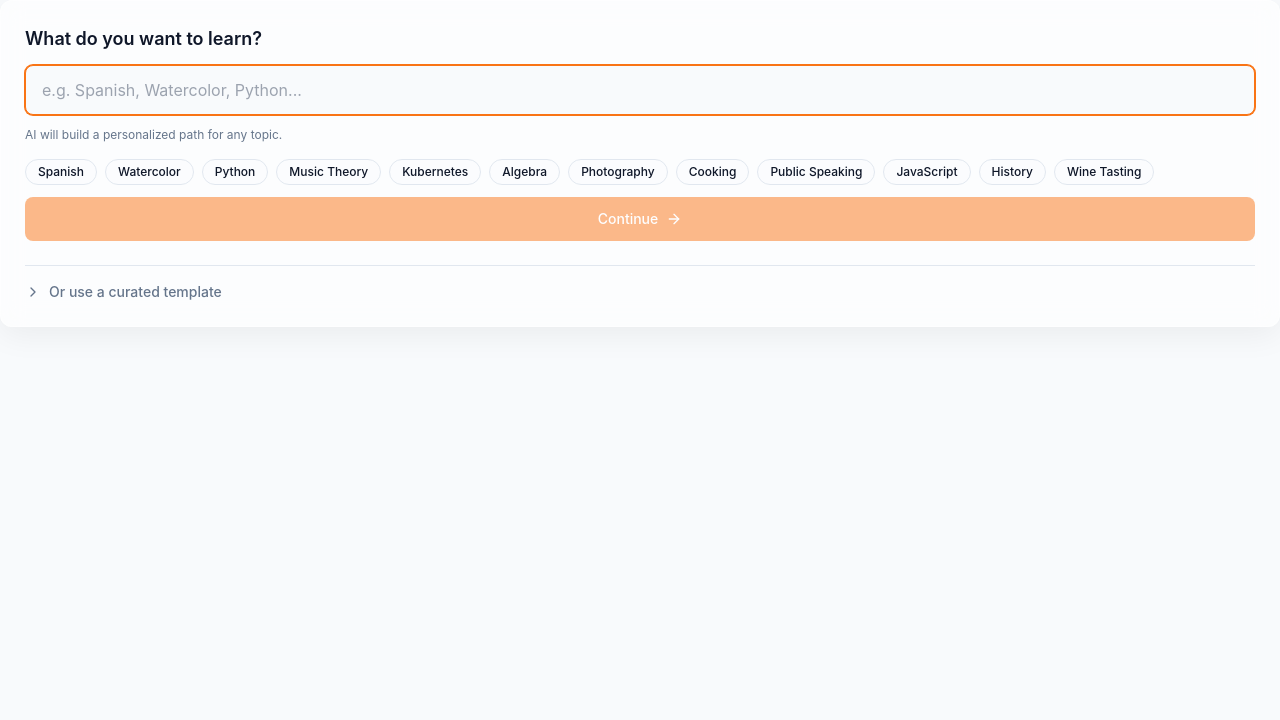
Test: TopicPicker › renders PackPickerCertPreview on each pack tile in expanded templates
This screenshot has width=1280, height=720.
Click the button with test id "templates-toggle". click: (135, 292)
box: [25,282,1255,302]
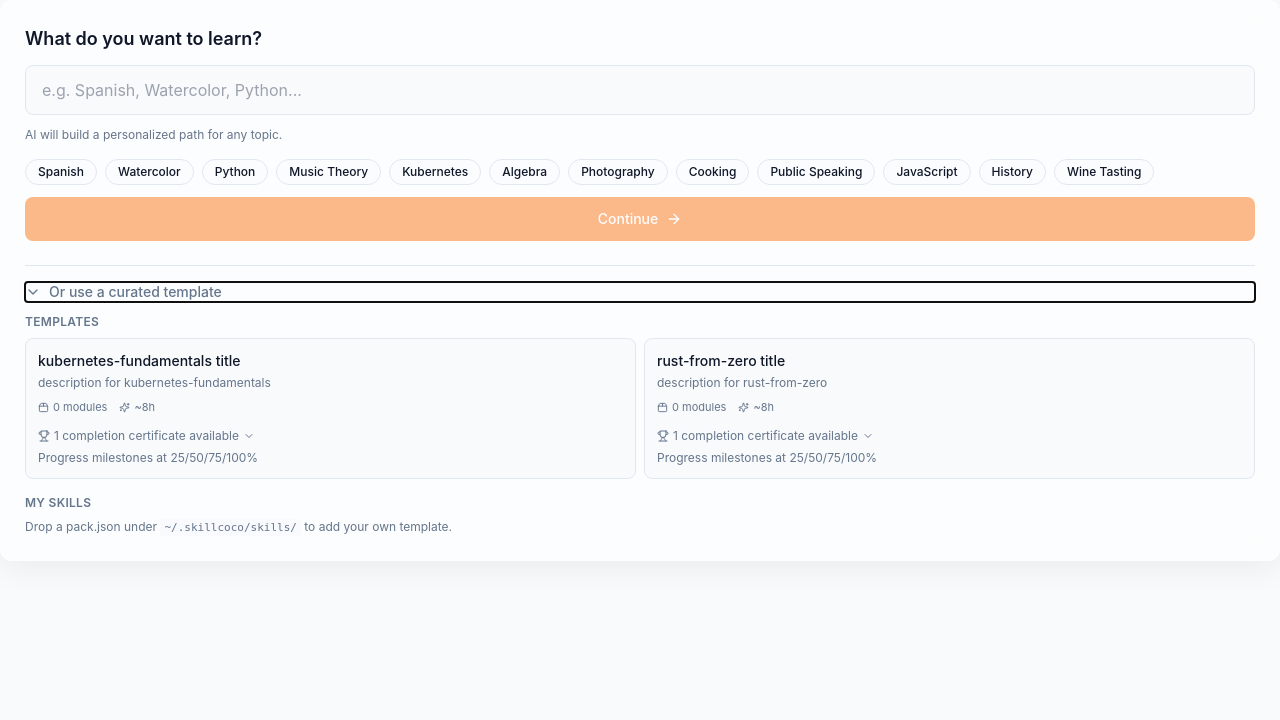
Now the number of elements with test id "pack-picker-cert-preview" is 2, box [38,428,258,464]; [657,428,877,464]
